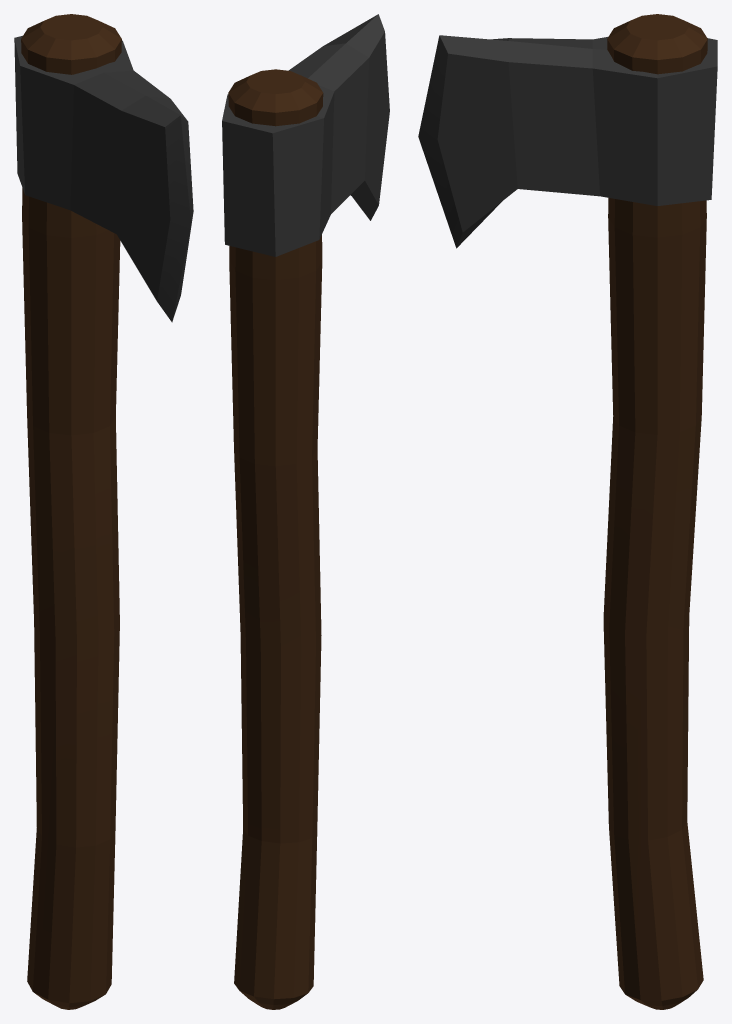
Rendered from Axe.fbx.
The picture shows the model from 3 angles, left to right: view 1: azimuth 30°, elevation 25°; view 2: azimuth 150°, elevation 25°; view 3: azimuth 270°, elevation 25°; orthographic projection. The views are drawn at different scales.
Parts seen in each view (by area): view 1: Axe; view 2: Axe; view 3: Axe.
Part boxes in pixels (<box>): Axe: <box>14,14,193,1009</box>; Axe: <box>222,14,389,1009</box>; Axe: <box>418,14,717,1009</box>.
Size of the model in its own units: 0.3628 by 3.31 by 0.9179.
